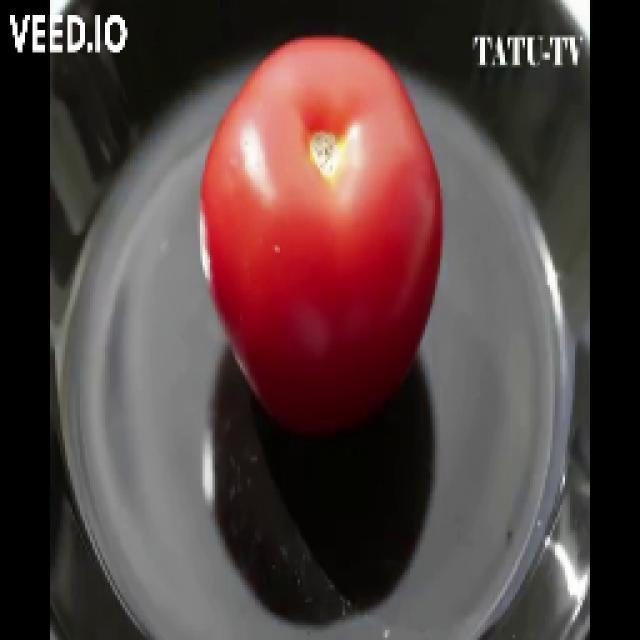tomato: (198, 37, 444, 442)
